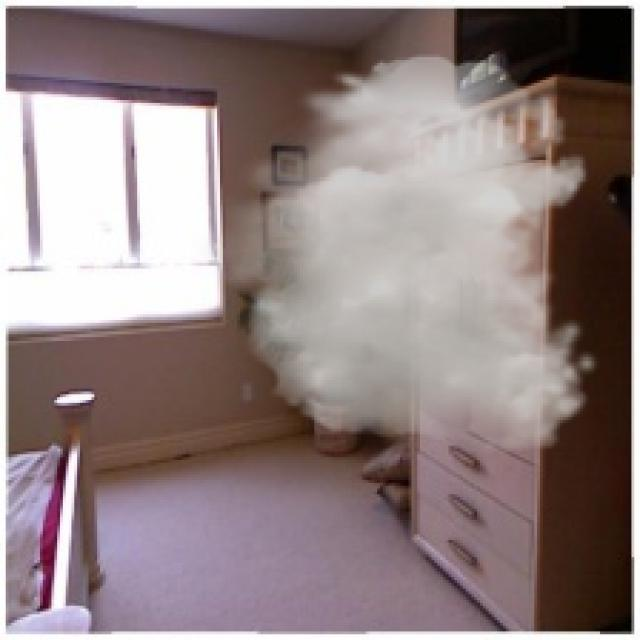Smoke: (191, 54, 603, 454)
